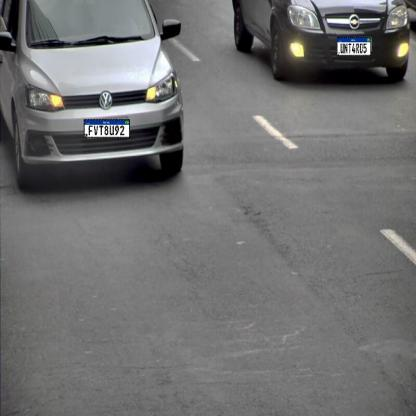PlacaM: (84, 119, 130, 138), (337, 37, 371, 56)
